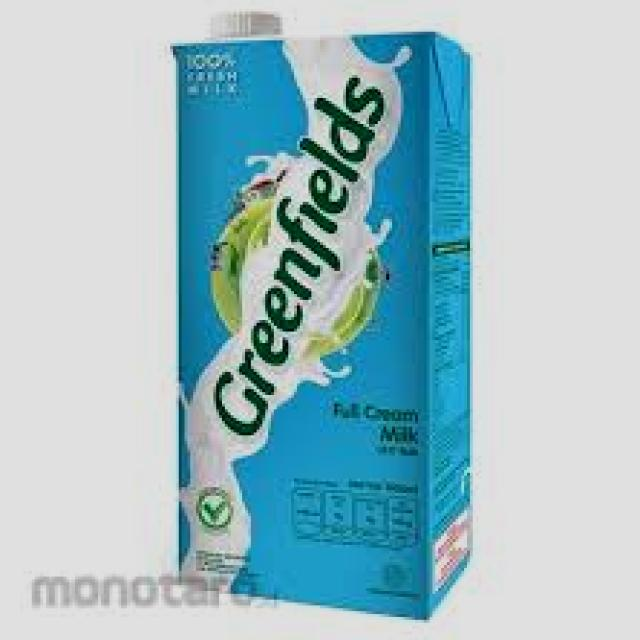susu_kotak: (146, 22, 492, 630)
